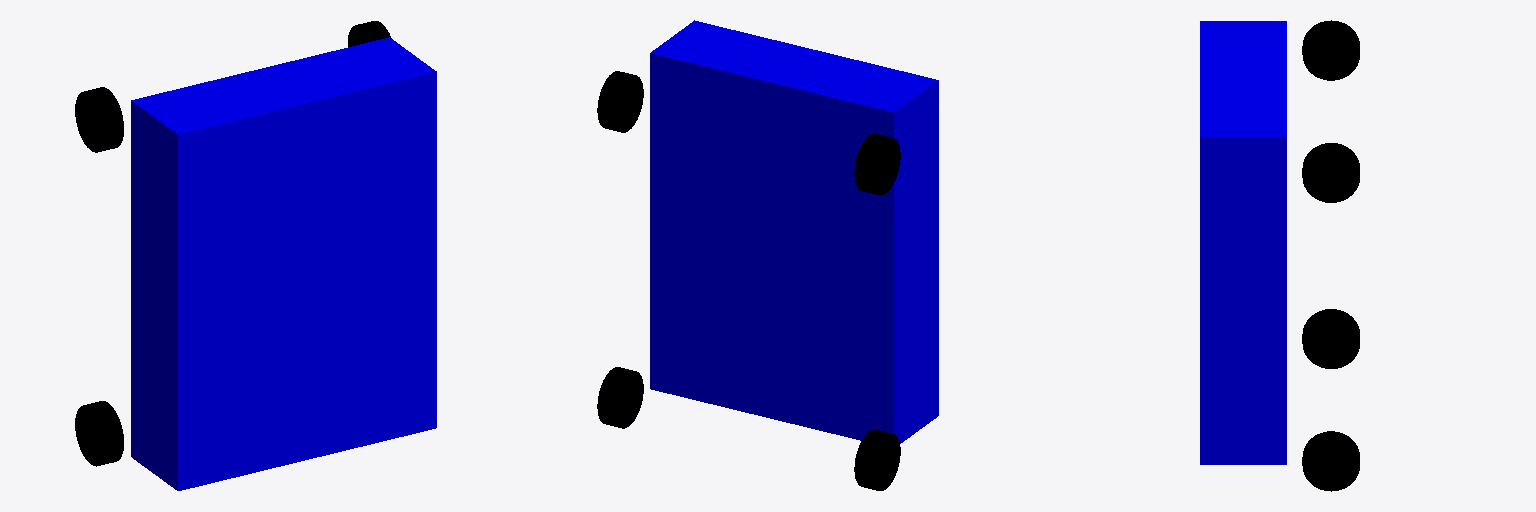
robot.urdf — SimpleCar:
<?xml version="1.0"?>
<robot name="SimpleCar">

    <!-- Main body -->
    <link name="base_link">
        <inertial>
            <mass value="2" />
            <origin xyz="0 0 0" /> 
            <inertia  ixx="0.2" ixy="0.0"  ixz="0.0"  iyy="0.2"  iyz="0.0"  izz="0.2" />
        </inertial>
        <visual>
            <origin xyz="0 0 0.001" rpy="0 0 0" />
            <geometry>
                <box size="0.019 0.006 0.025" />
            </geometry>
       			<material>
				<color rgba="0 0 1 1" />
			</material>
 
        </visual>
        <collision>
            <origin xyz="0 0 0" rpy="0 0 0" />
            <geometry>
                <box size="0.019 0.006 0.025" />
            </geometry>
        </collision>
    </link>
  
	<!-- the front left wheel -->
    <joint name="front_left_wheel_joint" type="continuous" >
        <axis xyz="0 1 0" />
        <parent link="base_link" />
        <child link="front_left_wheel_link" />
 	<origin xyz="-0.01 0.0061 -0.011" rpy="0 1.57 0" />
    </joint>
    <link name="front_left_wheel_link">
        <inertial>
            <mass value="1" />
            <origin xyz="0 0 0" /> 
            <inertia  ixx="0.01" ixy="0.0"  ixz="0.0"  iyy="0.01"  iyz="0.0"  izz="0.01" />
        </inertial>
        <visual>
            <origin xyz="0 0 0" rpy="0 0 0" />
            <geometry>
                <cylinder radius="0.002" length="0.0013" />
            </geometry>
       			<material>
				<color rgba="0 0 0 0" />
			</material>
 
        </visual>
        <collision>
            <origin xyz="0 0 0" rpy="0 0 0" />
            <geometry>
                <cylinder radius="0.002" length="0.0013" />
            </geometry>
        </collision>
    </link>
	<!-- the front right wheel -->
    <joint name="front_right_wheel_joint" type="continuous" >
        <axis xyz="0 1 0" />
        <parent link="base_link" />
        <child link="front_right_wheel_link" />
 	<origin xyz="0.01 0.0061 -0.011" rpy="0 1.57 0" />
    </joint>
    <link name="front_right_wheel_link">
        <inertial>
            <mass value="1" />
            <origin xyz="0 0 0" /> 
            <inertia  ixx="0.01" ixy="0.0"  ixz="0.0"  iyy="0.01"  iyz="0.0"  izz="0.01" />
        </inertial>
        <visual>
            <origin xyz="0 0 0" rpy="0 0 0" />
            <geometry>
                <cylinder radius="0.002" length="0.0013" />
            </geometry>
       			<material>
				<color rgba="0 0 0 0" />
			</material>
 
        </visual>
        <collision>
            <origin xyz="0 0 0" rpy="0 0 0" />
            <geometry>
                <cylinder radius="0.002" length="0.0013" />
            </geometry>
        </collision>
    </link>
	<!-- the back right wheel -->
    <joint name="back_right_wheel_joint" type="continuous" >
        <axis xyz="0 1 0" />
        <parent link="base_link" />
        <child link="back_right_wheel_link" />
 	<origin xyz="-0.01 0.0061 0.011" rpy="0 1.57 0" />
    </joint>
    <link name="back_right_wheel_link">
        <inertial>
            <mass value="1" />
            <origin xyz="0 0 0" /> 
            <inertia  ixx="0.01" ixy="0.0"  ixz="0.0"  iyy="0.01"  iyz="0.0"  izz="0.01" />
        </inertial>
        <visual>
            <origin xyz="0 0 0" rpy="0 0 0" />
            <geometry>
                <cylinder radius="0.002" length="0.0013" />
            </geometry>
       			<material>
				<color rgba="0 0 0 0" />
			</material>
 
        </visual>
        <collision>
            <origin xyz="0 0 0" rpy="0 0 0" />
            <geometry>
                <cylinder radius="0.002" length="0.0013" />
            </geometry>
        </collision>
    </link>
  

    
  	<!-- the back left wheel -->
    <joint name="back_left_wheel_joint" type="continuous" >
        <axis xyz="0 1 0" />
        <parent link="base_link" />
        <child link="back_left_wheel_link" />
 	<origin xyz="0.01 0.0061 0.011" rpy="0 1.57 0" />
    </joint>
    <link name="back_left_wheel_link">
        <inertial>
            <mass value="1" />
            <origin xyz="0 0 0" /> 
            <inertia  ixx="0.01" ixy="0.0"  ixz="0.0"  iyy="0.01"  iyz="0.0"  izz="0.01" />
        </inertial>
        <visual>
            <origin xyz="0 0 0" rpy="0 0 0" />
            <geometry>
                <cylinder radius="0.002" length="0.0013" />
            </geometry>
       			<material>
				<color rgba="0 0 0 0" />
			</material>
 
        </visual>
        <collision>
            <origin xyz="0 0 0" rpy="0 0 0" />
            <geometry>
                <cylinder radius="0.002" length="0.0013" />
            </geometry>
        </collision>
    </link>
    

  
  </robot>

--- What the picture shows (computed from the rendered views, not written in the file) ---
Views: 3 orthographic renders of the robot side by side, from view 1: azimuth 30°, elevation 25°; view 2: azimuth 150°, elevation 25°; view 3: azimuth 270°, elevation 25°.
Robot: SimpleCar — 5 links, 4 joints (4 continuous); root link base_link; default pose: every joint at zero.
Visible links, largest first — view 1: base_link, back_right_wheel_link, front_left_wheel_link, back_left_wheel_link; view 2: base_link, back_right_wheel_link, back_left_wheel_link, front_right_wheel_link, front_left_wheel_link; view 3: base_link, front_left_wheel_link, back_left_wheel_link, front_right_wheel_link, back_right_wheel_link.
Link boxes in pixels (x1,y1,x2,y2): base_link: (131, 37, 436, 490); back_right_wheel_link: (75, 87, 123, 152); front_left_wheel_link: (75, 401, 123, 466); back_left_wheel_link: (348, 21, 391, 46); base_link: (650, 20, 938, 443); back_right_wheel_link: (854, 134, 900, 195); back_left_wheel_link: (597, 71, 643, 132); front_right_wheel_link: (597, 367, 643, 428); front_left_wheel_link: (854, 430, 900, 490); base_link: (1200, 21, 1286, 464); front_left_wheel_link: (1302, 309, 1359, 368); back_left_wheel_link: (1302, 143, 1359, 202); front_right_wheel_link: (1302, 431, 1359, 491); back_right_wheel_link: (1302, 20, 1359, 80).
Bounding box of the posed robot: 0.0213 × 0.0111 × 0.0265 m (x, y, z).
Geometry: primitives only (box / cylinder / sphere), no mesh files.
